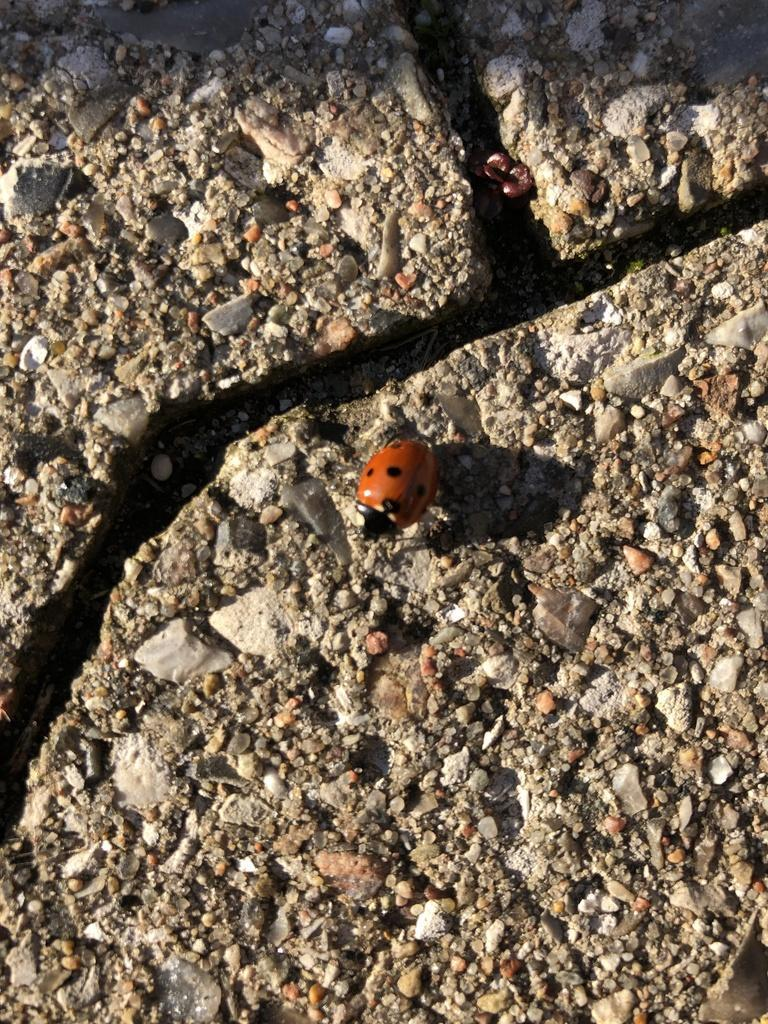ladybug: (354, 435, 445, 553)
